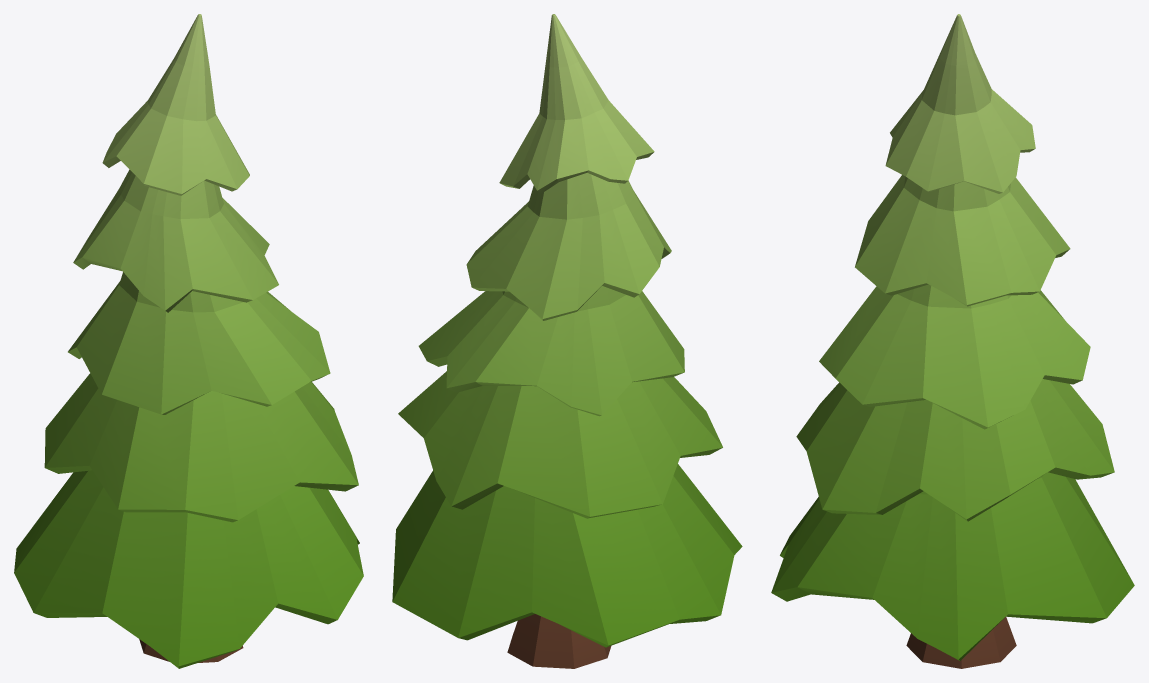
File: fir tree bent.fbx
3 renders of one model, left to right at view 1: azimuth 30°, elevation 25°; view 2: azimuth 150°, elevation 25°; view 3: azimuth 270°, elevation 25°, orthographic.
Parts seen in each view (by area): view 1: fir tree bent; view 2: fir tree bent; view 3: fir tree bent.
Part boxes in pixels (x1,y1,x2,y2): fir tree bent: [14, 14, 363, 668]; fir tree bent: [392, 14, 742, 668]; fir tree bent: [771, 14, 1134, 668].
Bounding box in the file's own units: 447 × 830 × 431.
